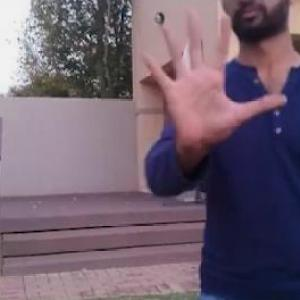follow_hand: (136, 5, 286, 152)
